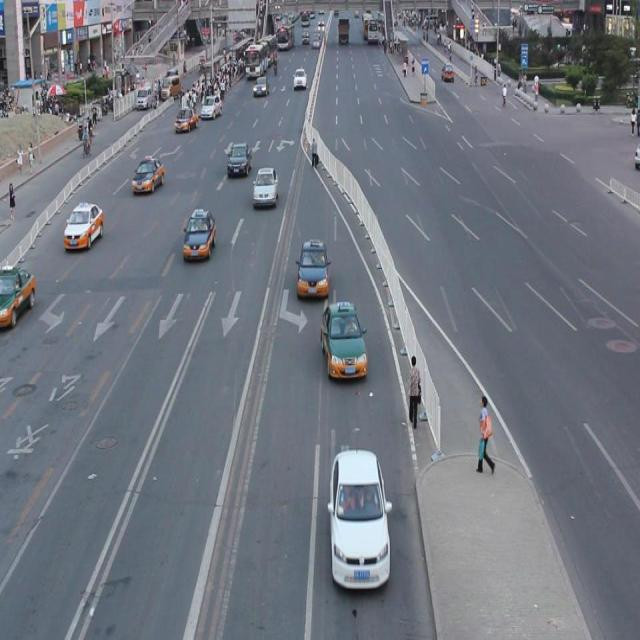car: (328, 446, 390, 587), (319, 300, 365, 380), (1, 264, 36, 326), (62, 201, 104, 252), (295, 239, 329, 299), (182, 206, 215, 261), (132, 156, 166, 194), (251, 166, 280, 206), (226, 141, 251, 177)
